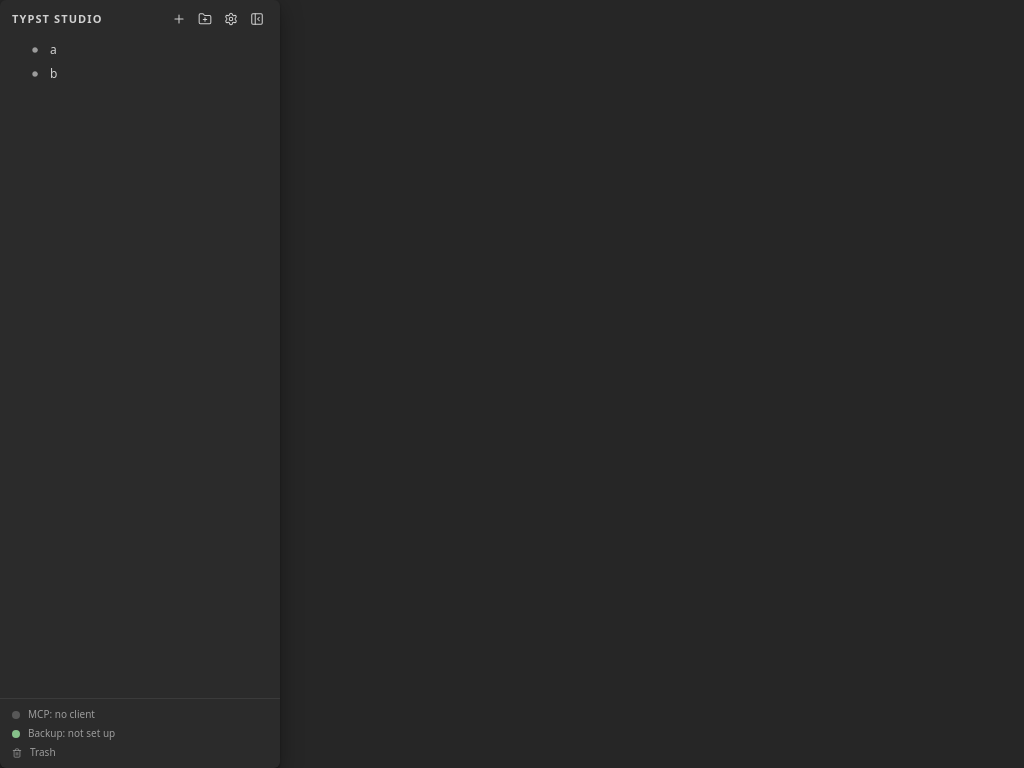
Test: Sidebar delete menu and dialogs › reports a partial failure in the sidebar
Click the button with test id "workspace-a" at {"x": 35, "y": 50}, box [8,38,272,62]
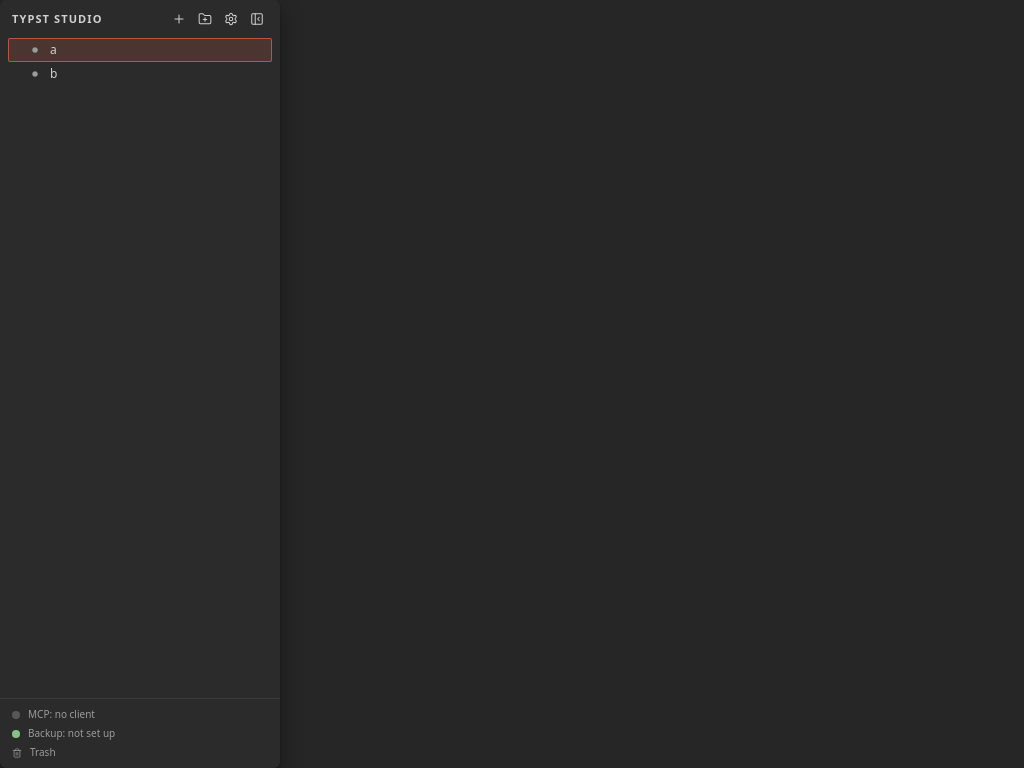
Click the button with test id "workspace-b" at {"x": 35, "y": 74}, box [8,62,272,86]
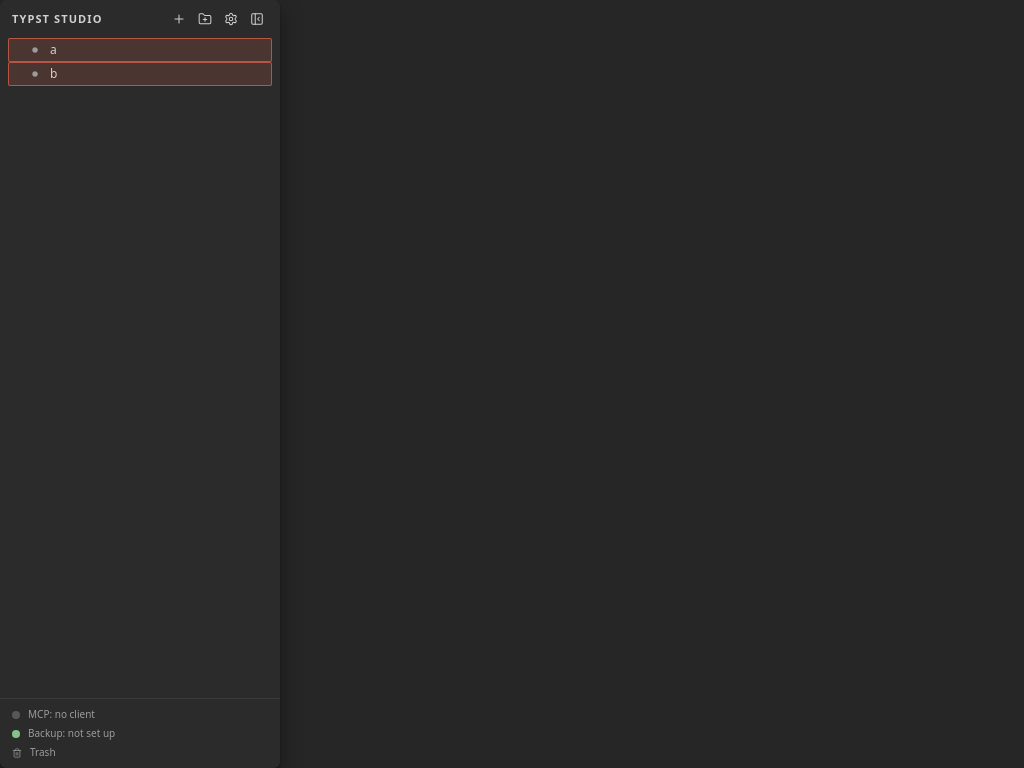
Right-click the button with test id "workspace-a" at {"x": 35, "y": 50}, box [8,38,272,62]
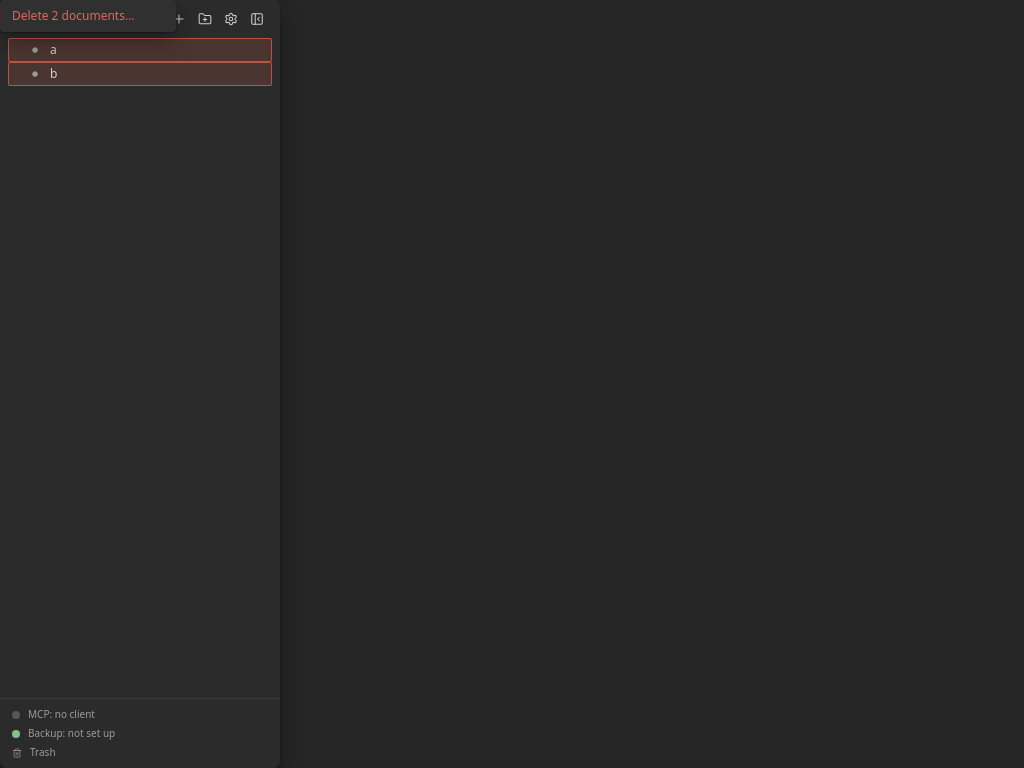
Click the button "Delete 2 documents…" at {"x": 88, "y": 16}, box [4,4,172,28]
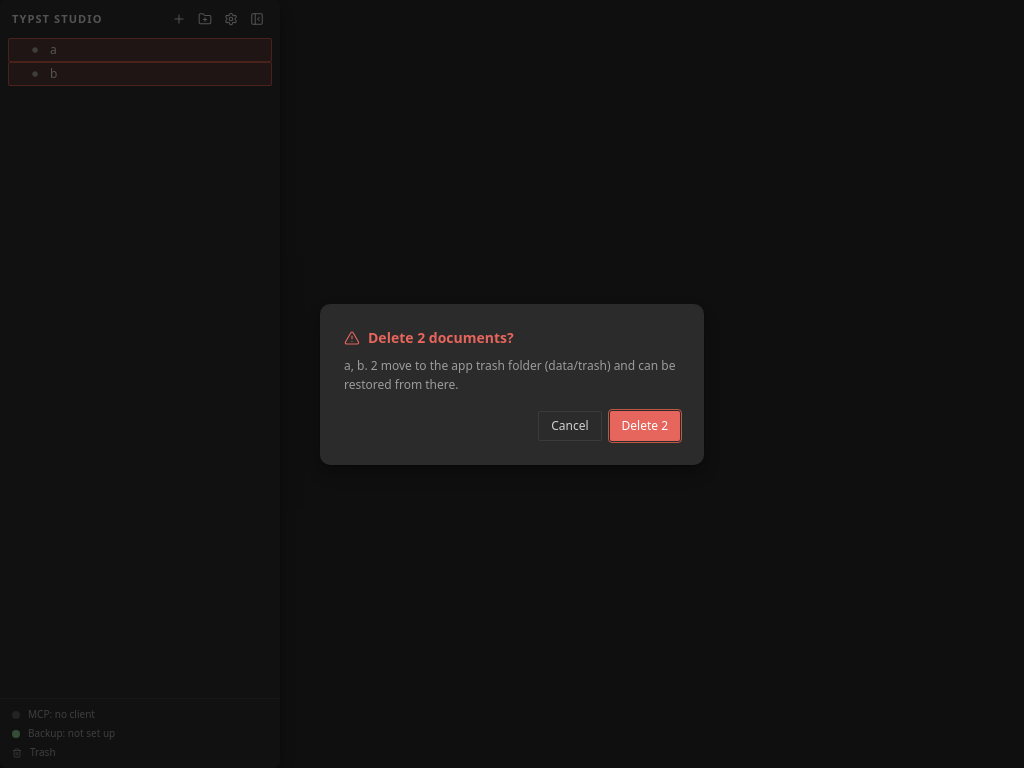
Click the button "Delete 2" at {"x": 645, "y": 426}, box [610,410,680,440]
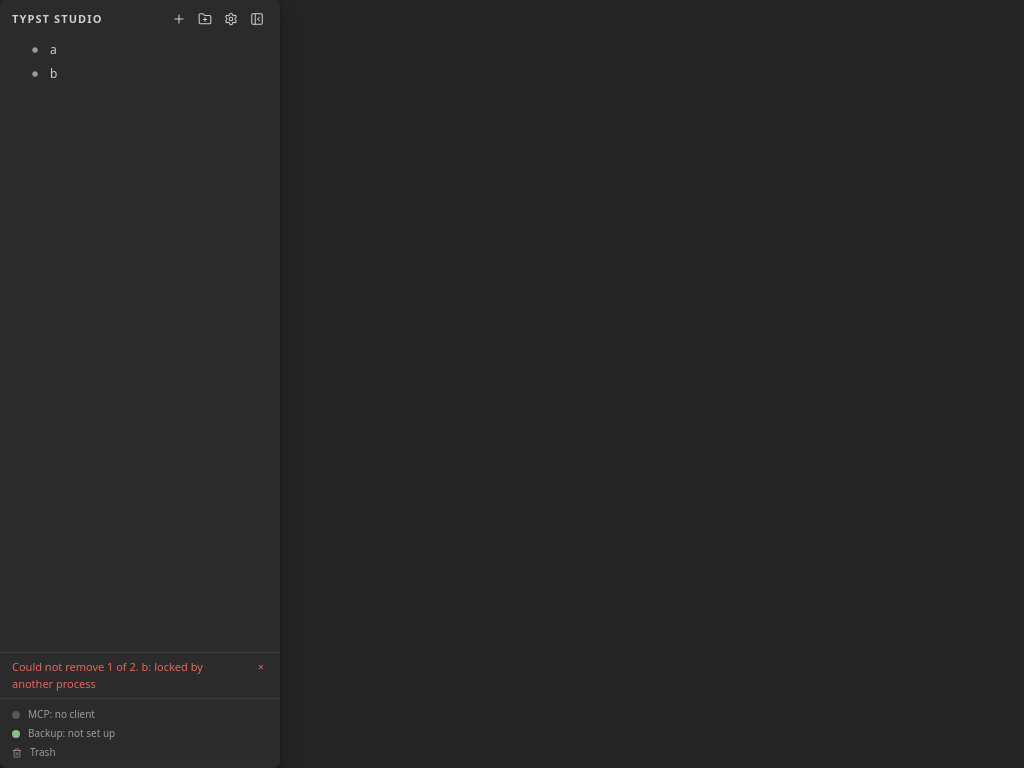
Check: the message shows "1 of 2", box [12,659,203,690]
Check: the message shows "b: locked by another process", box [12,659,203,690]
